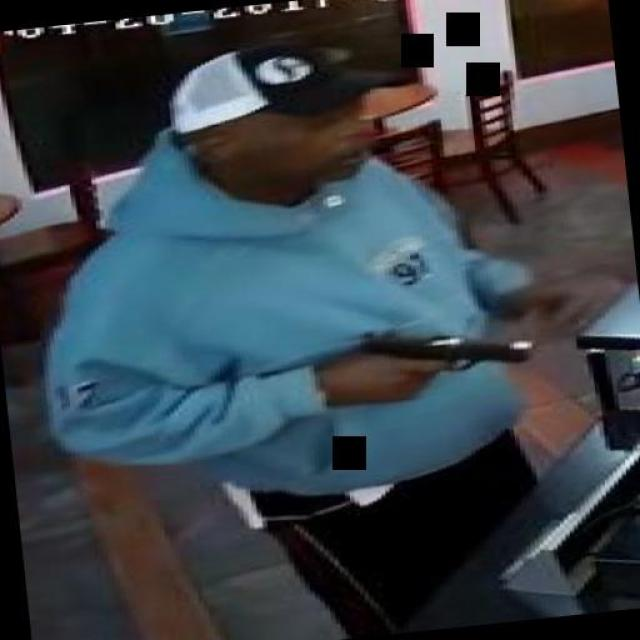gun: (342, 316, 542, 404)
